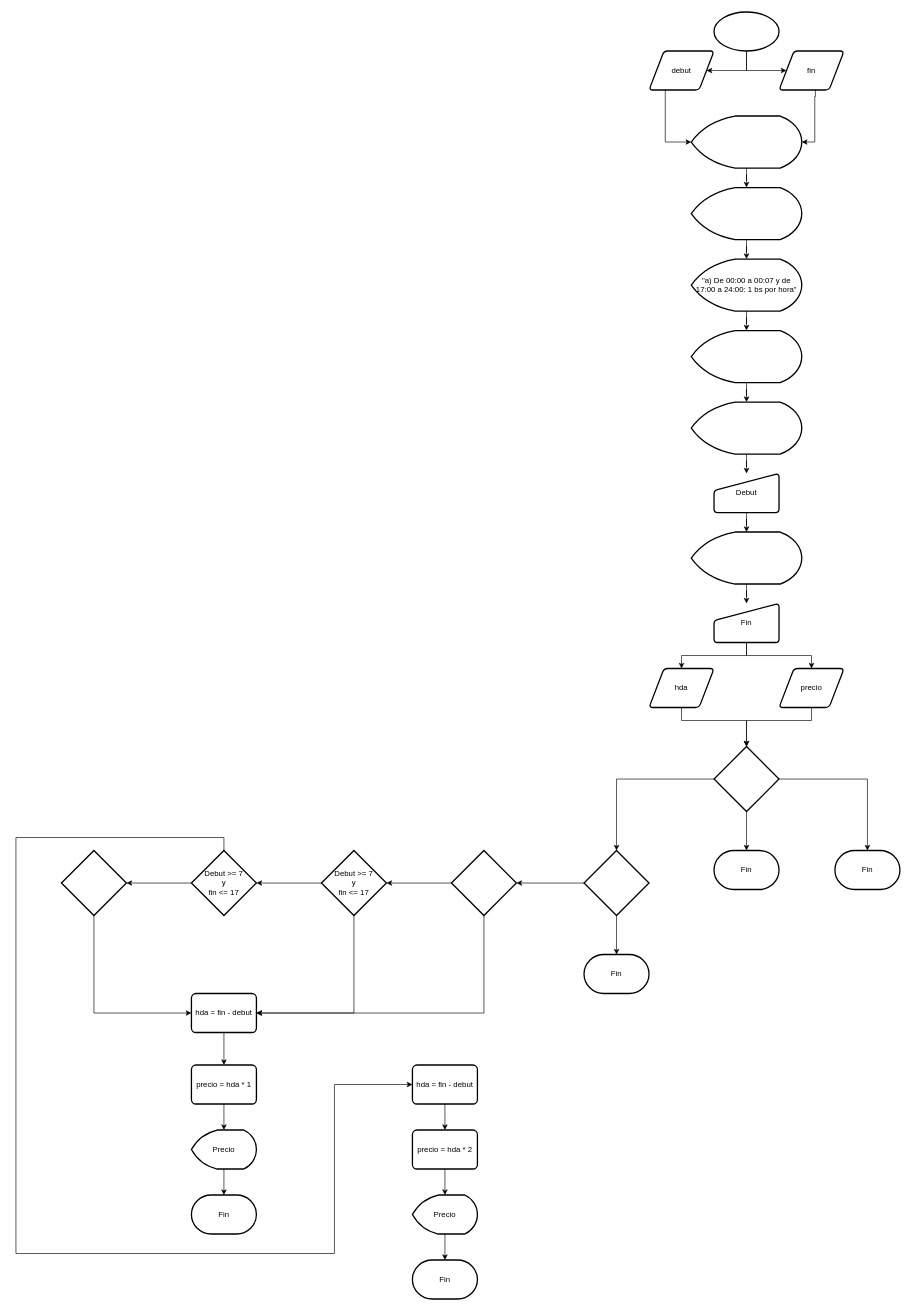
This 912x1310 diagram has some shape labels left out. The box of each missing label's shape, as (x1, y1, x2, y2) in pixels:
"b) de 07:00 a 17:00: 2 bs por hora": (690, 330, 802, 383)
"Elige tu hora de fin: ": (690, 531, 802, 584)
"Elige tu hora de inicio: ": (690, 401, 802, 454)
"Hola renta tu bici a las 24 horas del dí": (690, 115, 802, 168)
"Renta tu bicicleta en los siguientes horarios que ves en pantalla:": (690, 187, 802, 240)
Debut = Fin: (583, 850, 649, 916)
Debut >= 0 y fin <= 7: (450, 850, 517, 916)
Debut >= 17 y fin <= 24: (60, 850, 127, 916)
Fin < Debut: (713, 746, 779, 812)
Inicio: (713, 11, 779, 51)
